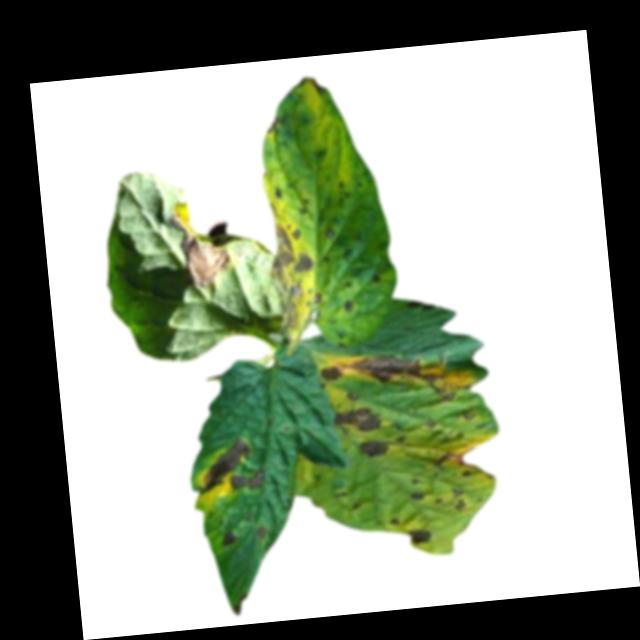Early_blight: (265, 217, 318, 338), (166, 198, 233, 293), (345, 348, 444, 395), (198, 439, 250, 494), (335, 404, 382, 437), (228, 467, 267, 496), (358, 436, 393, 461), (432, 450, 471, 471), (295, 76, 327, 99), (320, 363, 345, 385), (451, 487, 470, 513), (406, 528, 432, 546), (221, 530, 239, 550), (340, 299, 355, 318), (255, 524, 269, 544), (413, 492, 427, 505)
